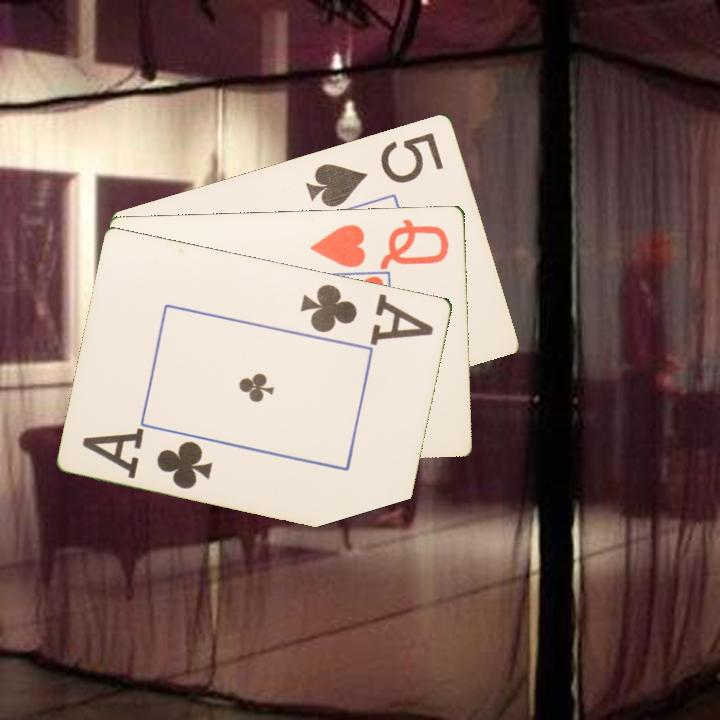5s: (302, 128, 447, 210)
Ac: (79, 425, 217, 492), (297, 280, 437, 346)
Qh: (308, 214, 452, 270)
